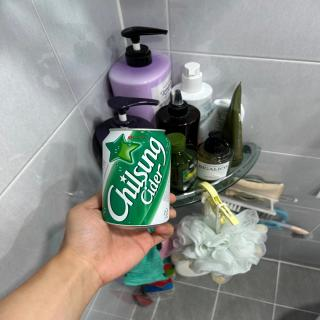cocacola: (97, 126, 173, 230)
